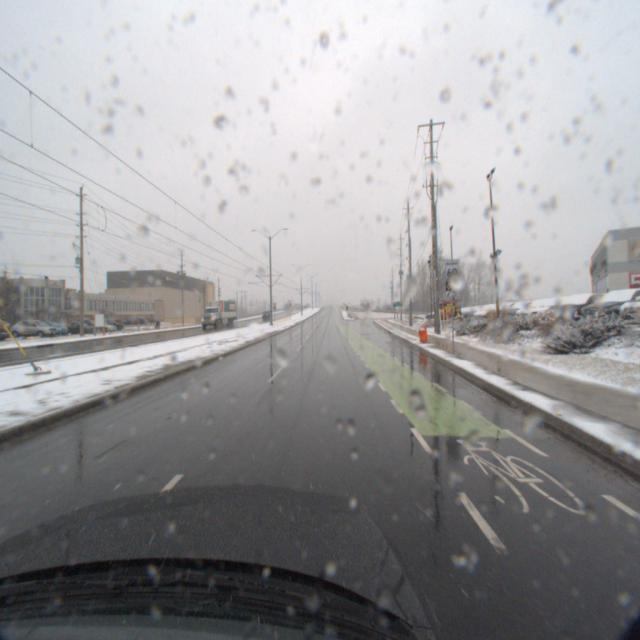Car: (532, 290, 622, 330), (517, 294, 601, 328), (503, 298, 572, 326), (0, 321, 56, 342), (463, 303, 513, 326)
Truck: (195, 300, 235, 330)
